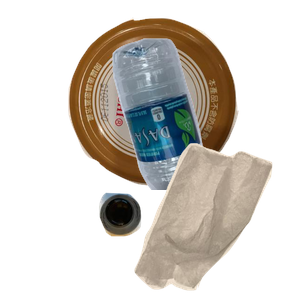glass: (96, 190, 230, 300)
metal: (66, 15, 297, 193)
plastic: (110, 36, 300, 216)
trash: (132, 140, 300, 300)
